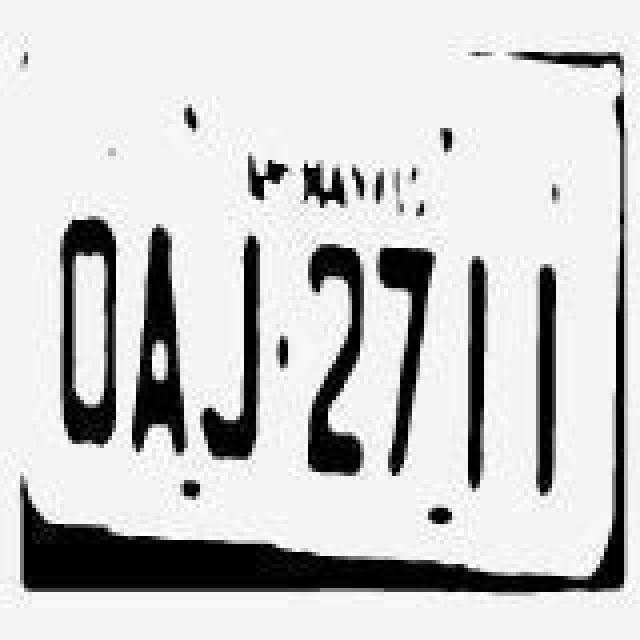1: (520, 258, 576, 510), (458, 238, 510, 498)
2: (308, 242, 380, 494)
7: (382, 236, 450, 492)
A: (134, 226, 202, 486)
J: (212, 238, 284, 490)
O: (60, 224, 132, 480)
